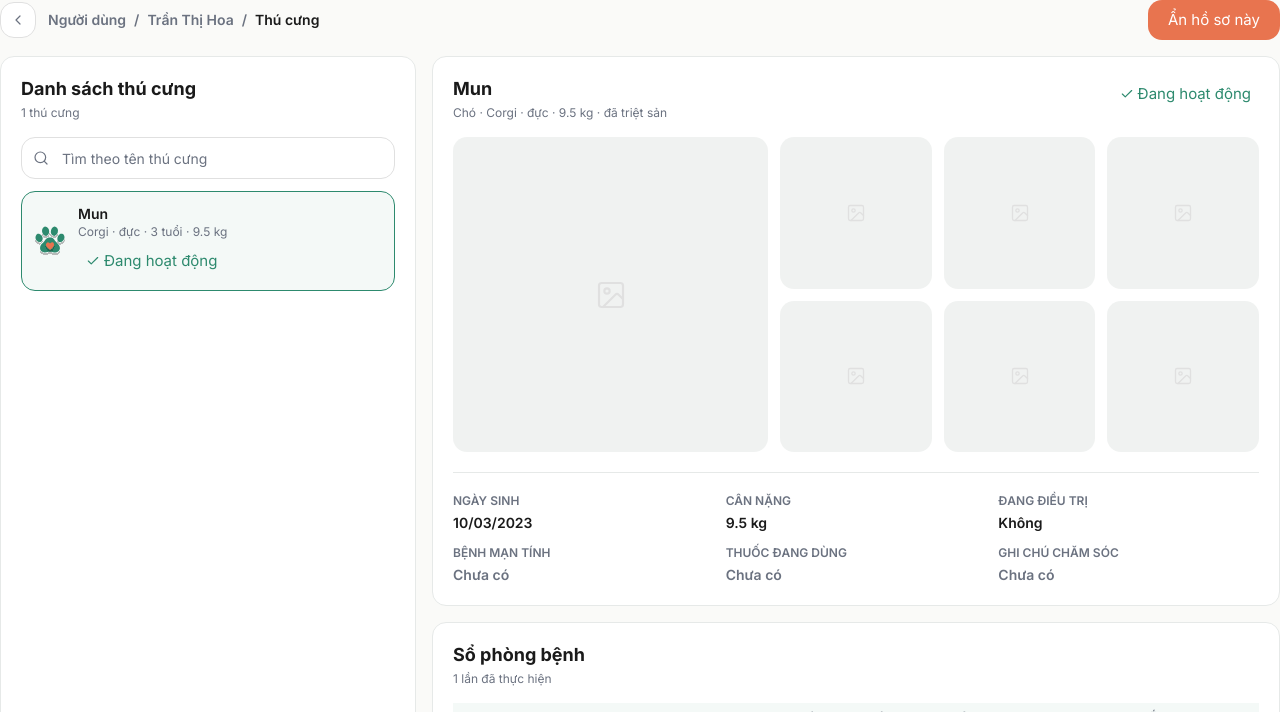
Test: Màn thú cưng không còn nút chết › bỏ hẳn nút xuất hồ sơ, nút còn lại mở hộp thoại thật
The image size is (1280, 712).
Click the button "Ẩn hồ sơ này" at (1214,20), box [1148, 0, 1279, 40]
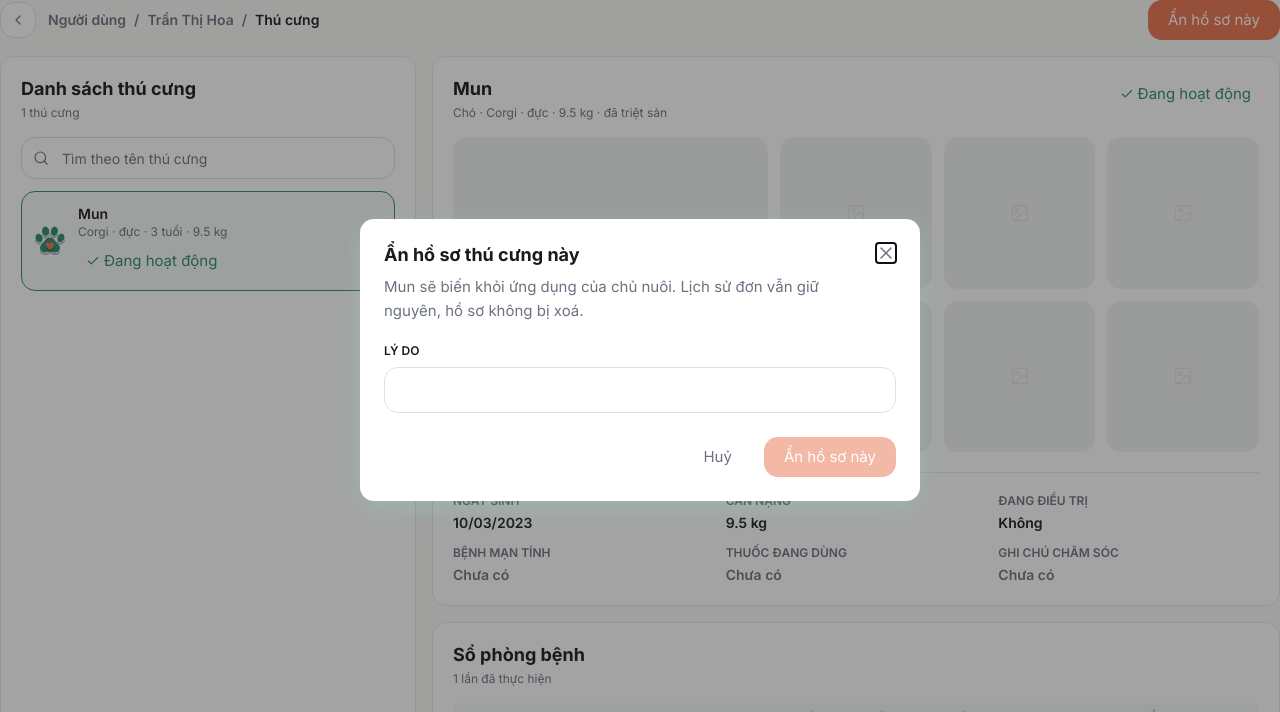
Check: the dialog is shown, box [360, 219, 920, 501]
Press Escape
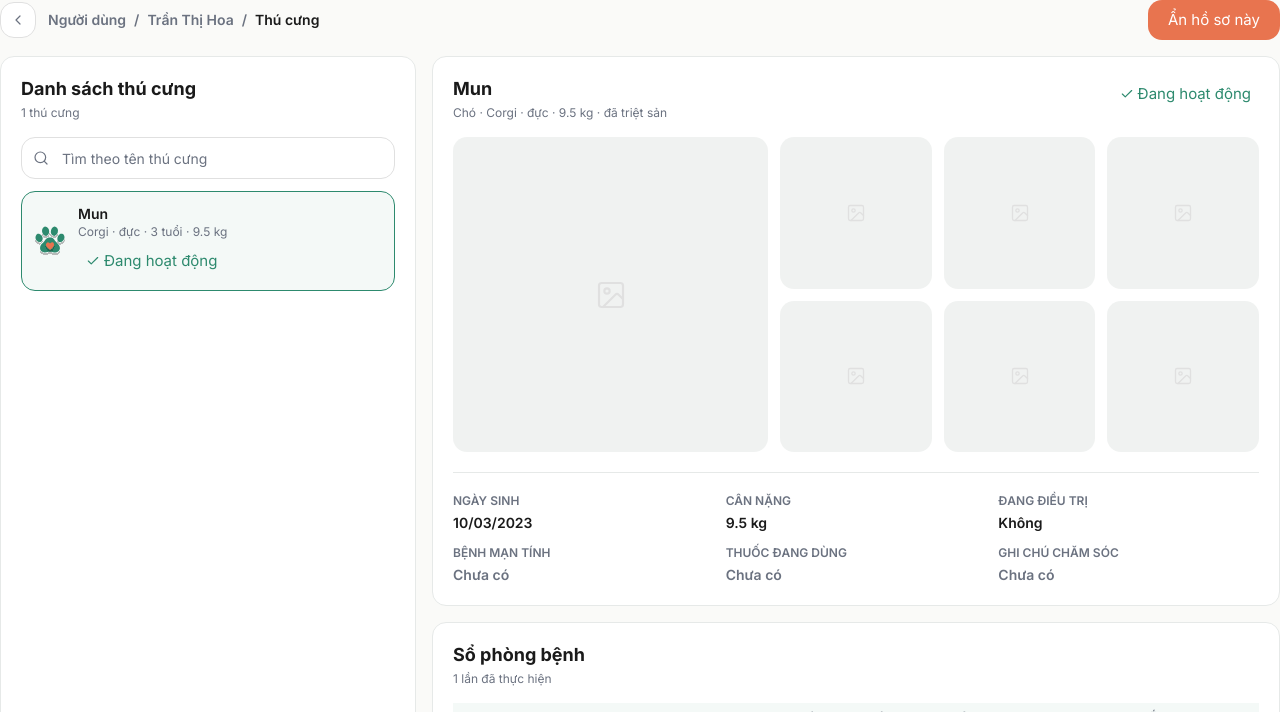
Check: the dialog is gone
